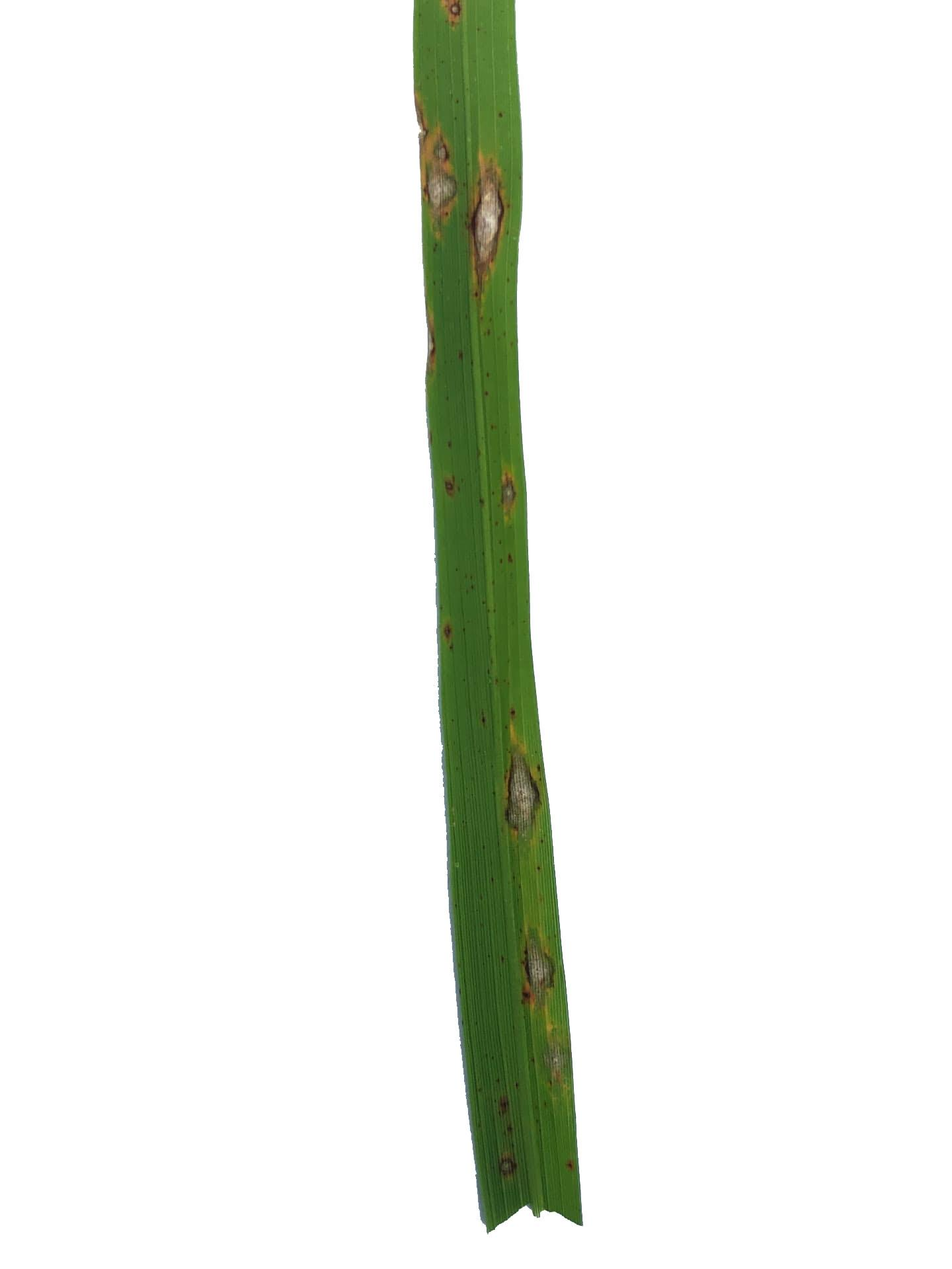Rice blast: (412, 98, 462, 236), (470, 150, 509, 297), (485, 1090, 537, 1196), (503, 738, 545, 852), (518, 918, 552, 1024), (543, 1036, 573, 1100), (491, 463, 521, 525), (447, 0, 465, 24)
